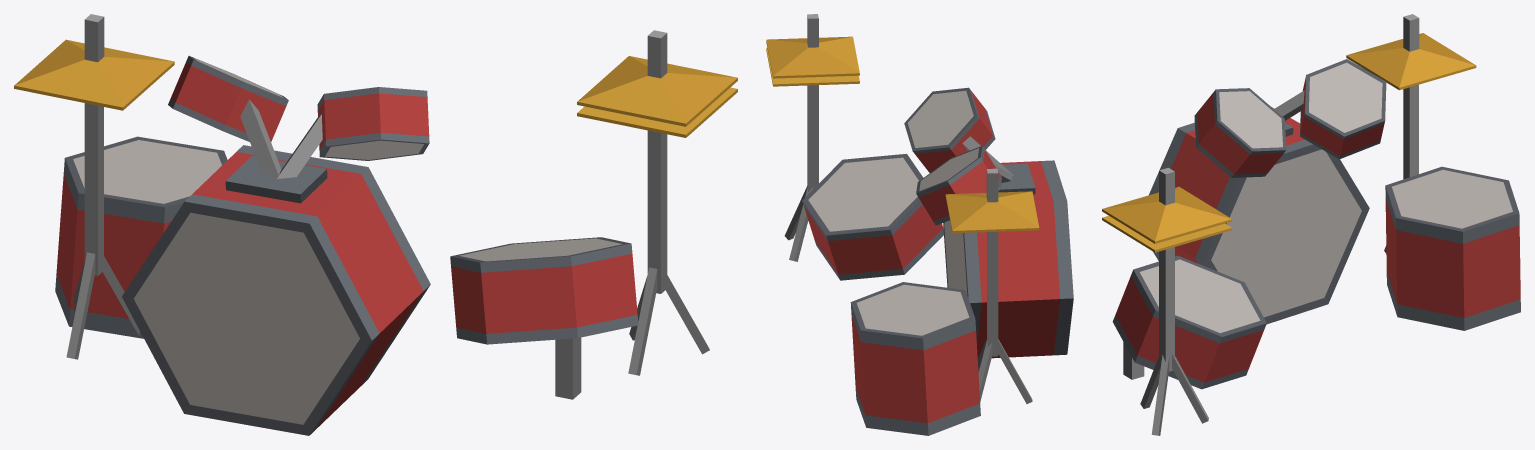
Rendered from drum kit.glb.
3 renders of one model, left to right at view 1: azimuth 30°, elevation 25°; view 2: azimuth 150°, elevation 25°; view 3: azimuth 270°, elevation 25°, orthographic. The views are drawn at different scales.
Visible parts, largest first — view 1: Object_2; view 2: Object_2; view 3: Object_2.
Part boxes in pixels (bbox=[...]): Object_2: bbox=[14, 14, 737, 435]; Object_2: bbox=[766, 14, 1073, 435]; Object_2: bbox=[1102, 14, 1520, 435].
Size of the model in its own units: 8.25 by 4.71 by 7.
1 material, 1 textured.
